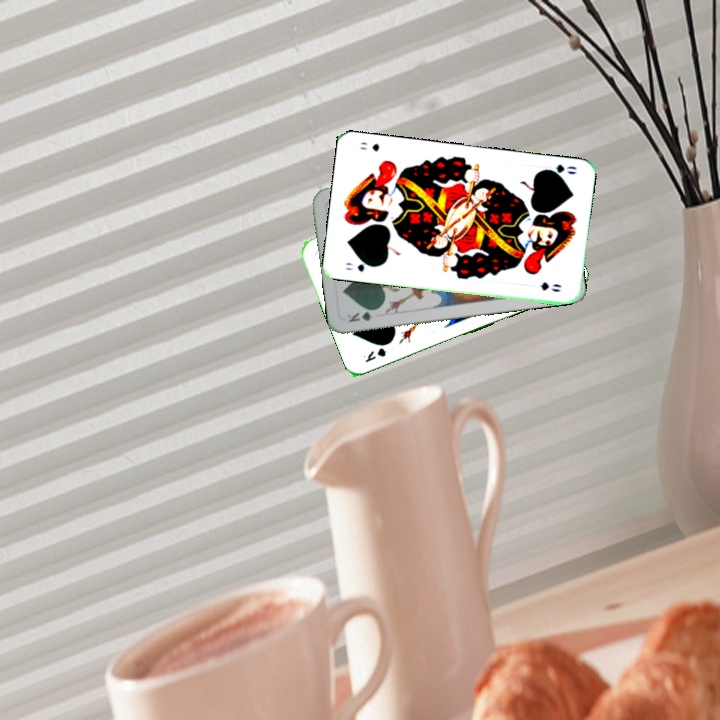GK: (343, 305, 382, 325), (359, 344, 389, 365)
GO: (539, 160, 579, 180), (341, 258, 378, 274)
